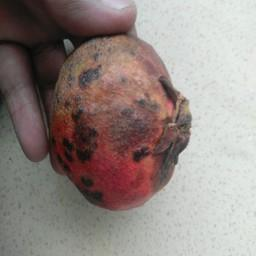Bad_pomegranate: (38, 29, 192, 216)
